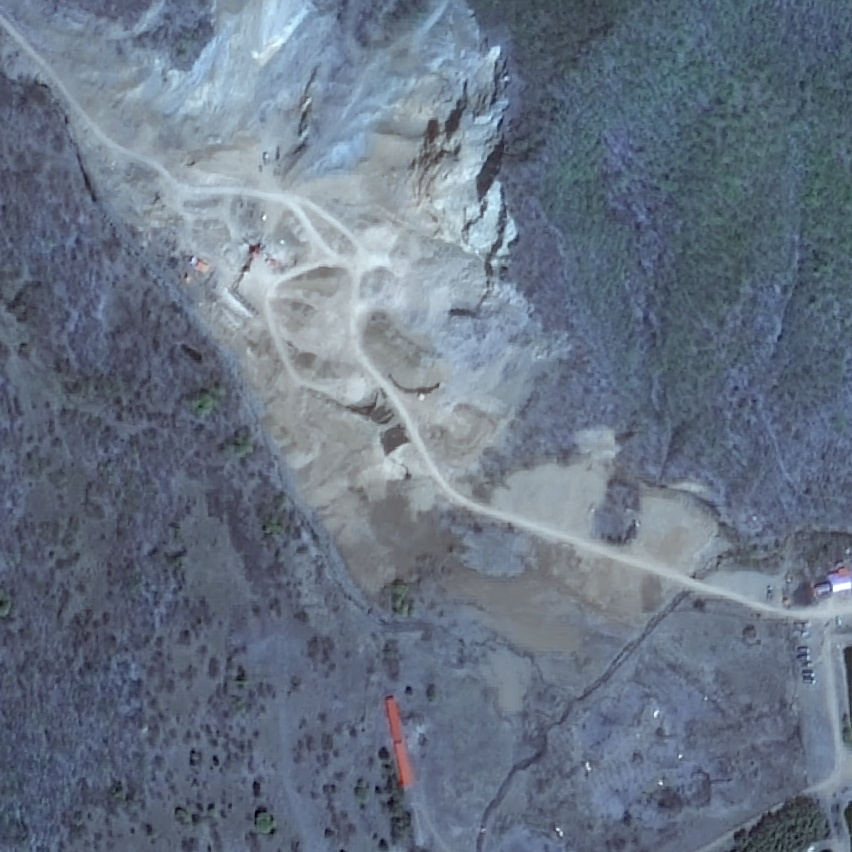slope: (352, 229, 574, 474), (415, 50, 524, 260)
